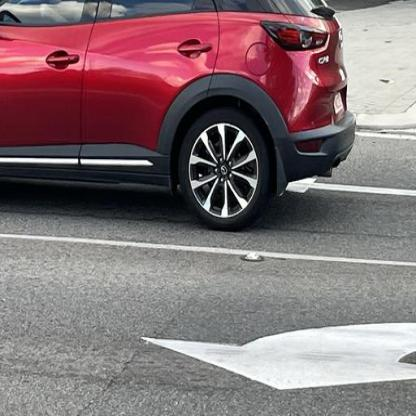Tire: (178, 107, 270, 231)
